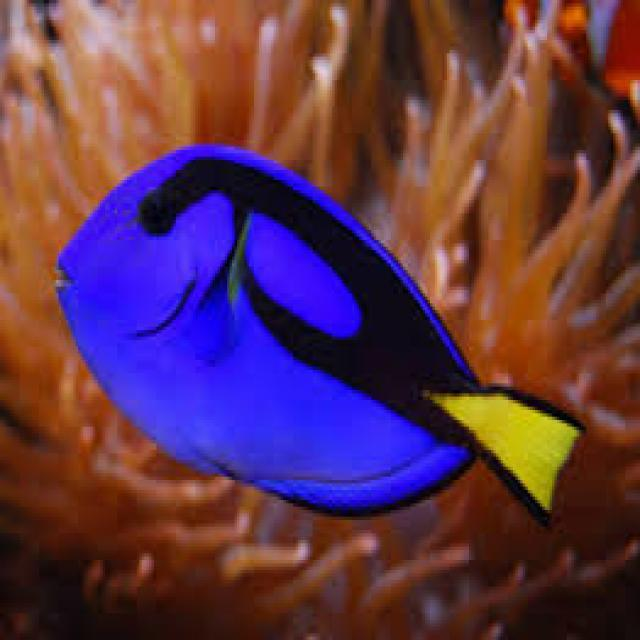BlueTang: (57, 146, 579, 525)
